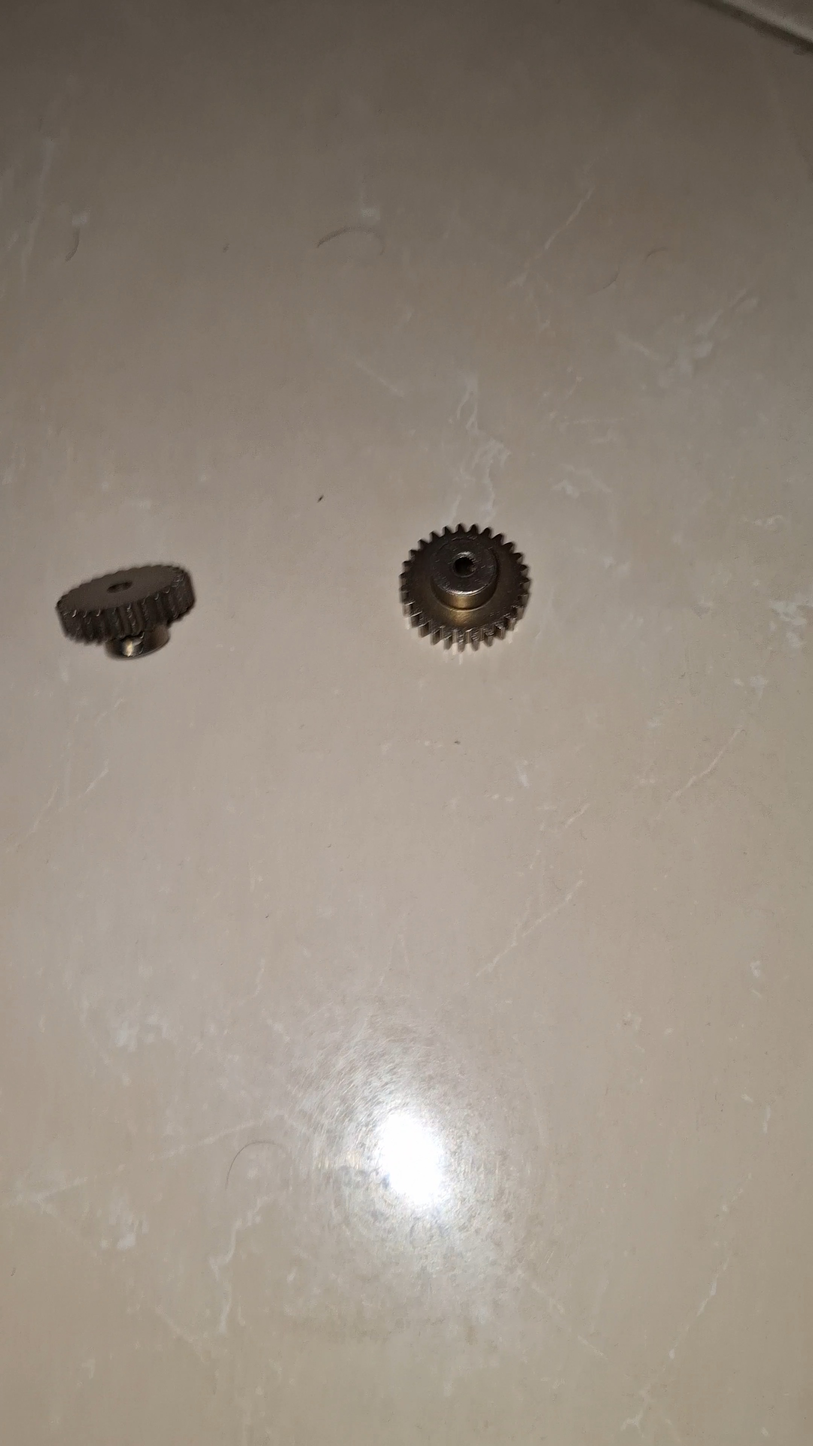spur gear: (400, 524, 530, 648), (57, 564, 193, 657), (705, 0, 813, 53)
